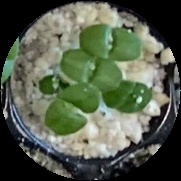Basil: (44, 86, 102, 132), (60, 51, 124, 91), (82, 24, 140, 62), (108, 83, 154, 114)
